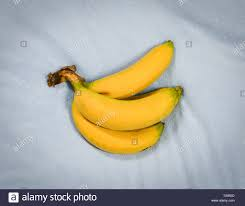banana: (46, 40, 185, 156)
